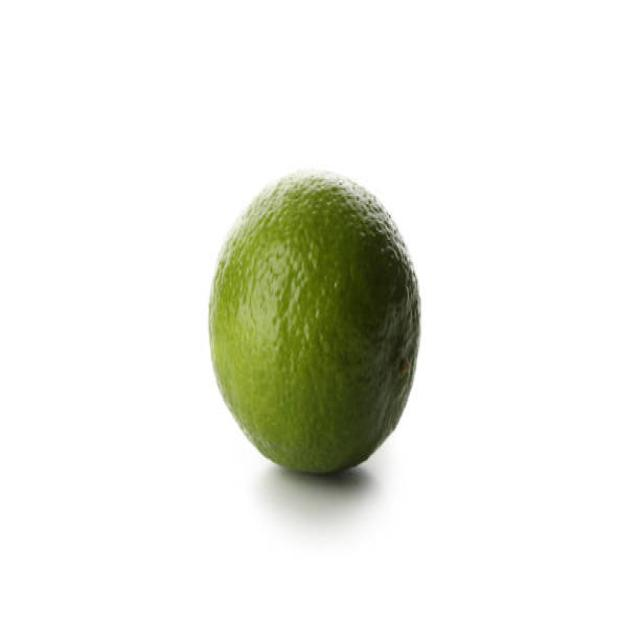Lemon: (207, 167, 424, 481)
